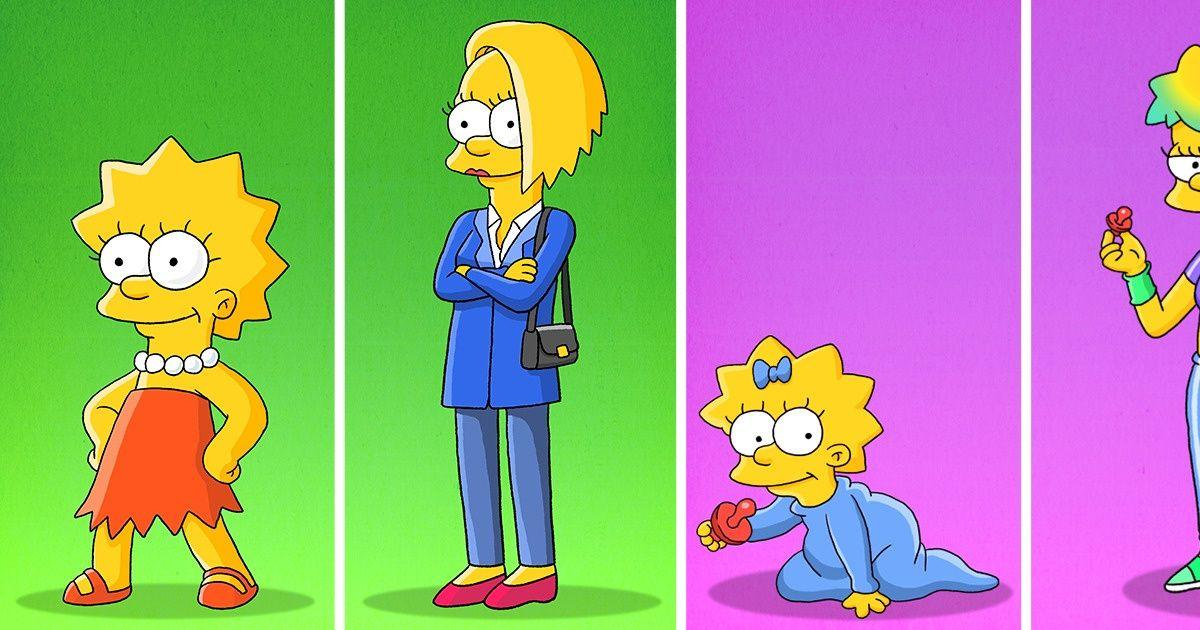Lisa: (29, 124, 299, 618)
Maggie: (688, 333, 1011, 608)
